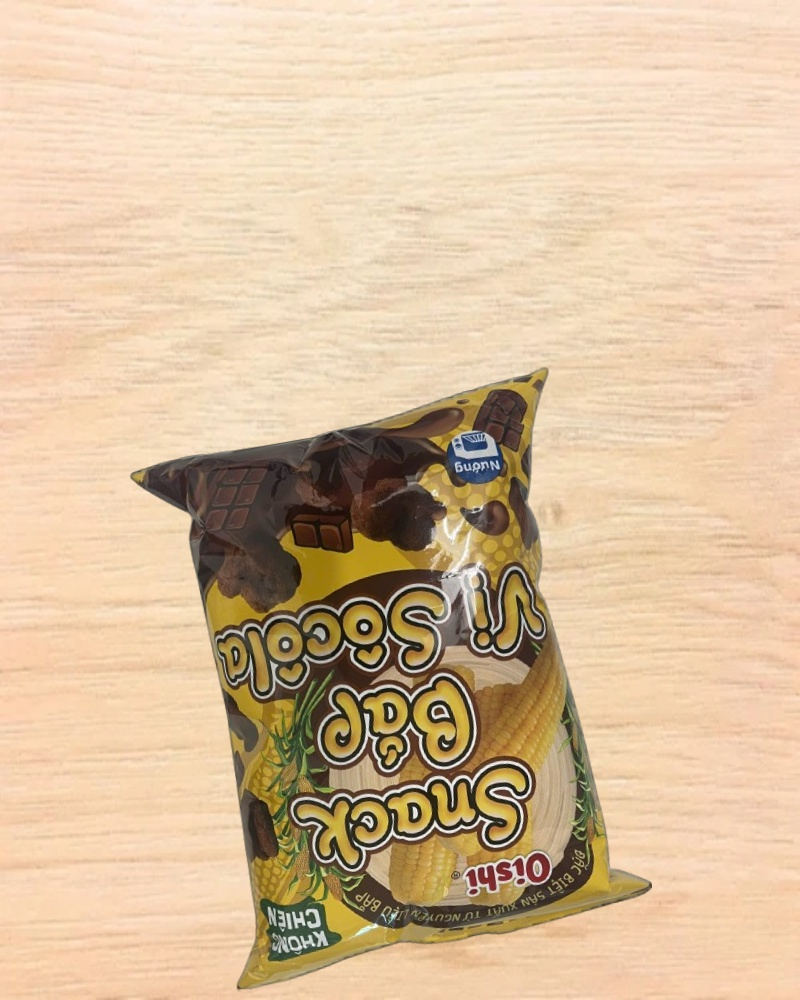Snack socola: (127, 368, 657, 992)
